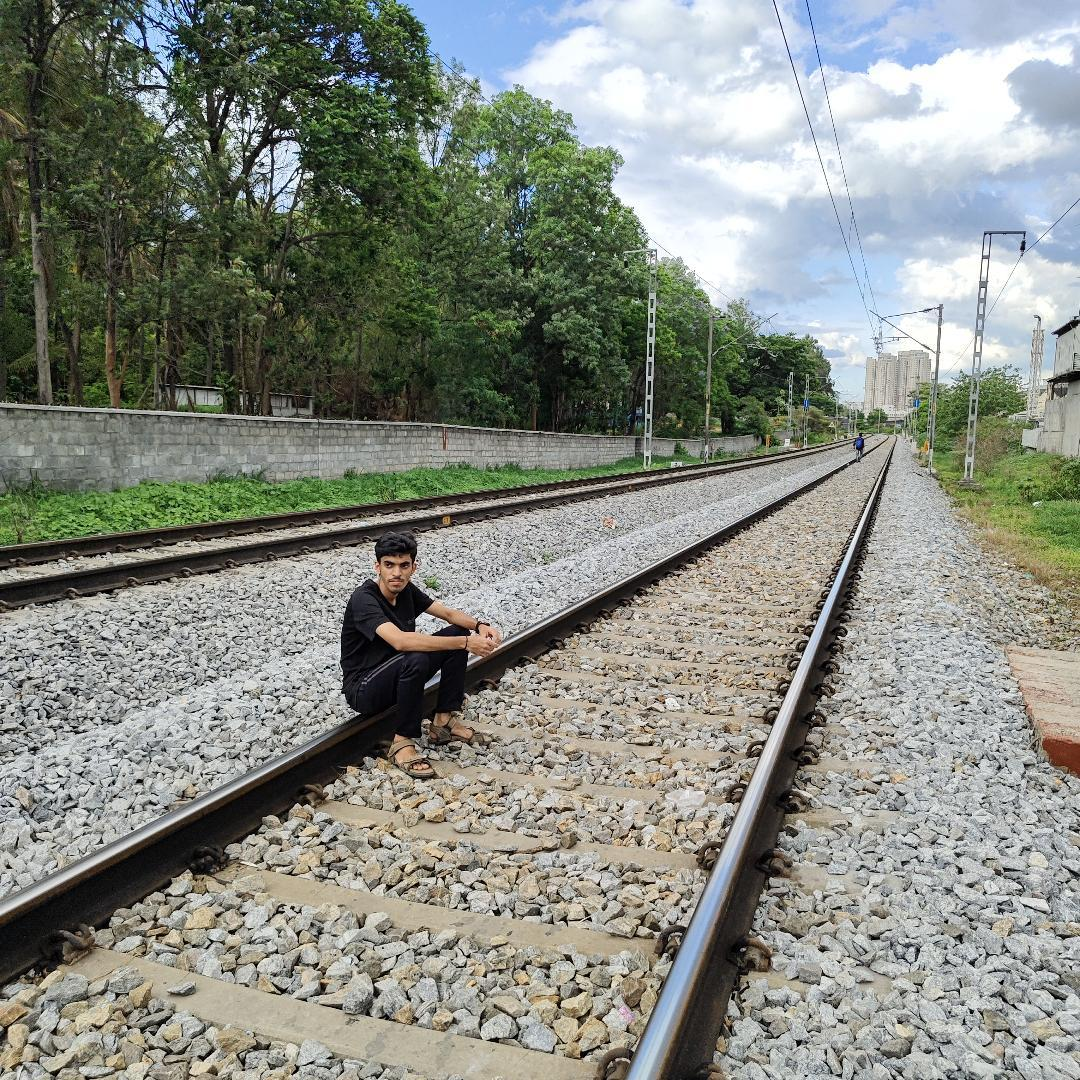sitting: (329, 519, 517, 787)
